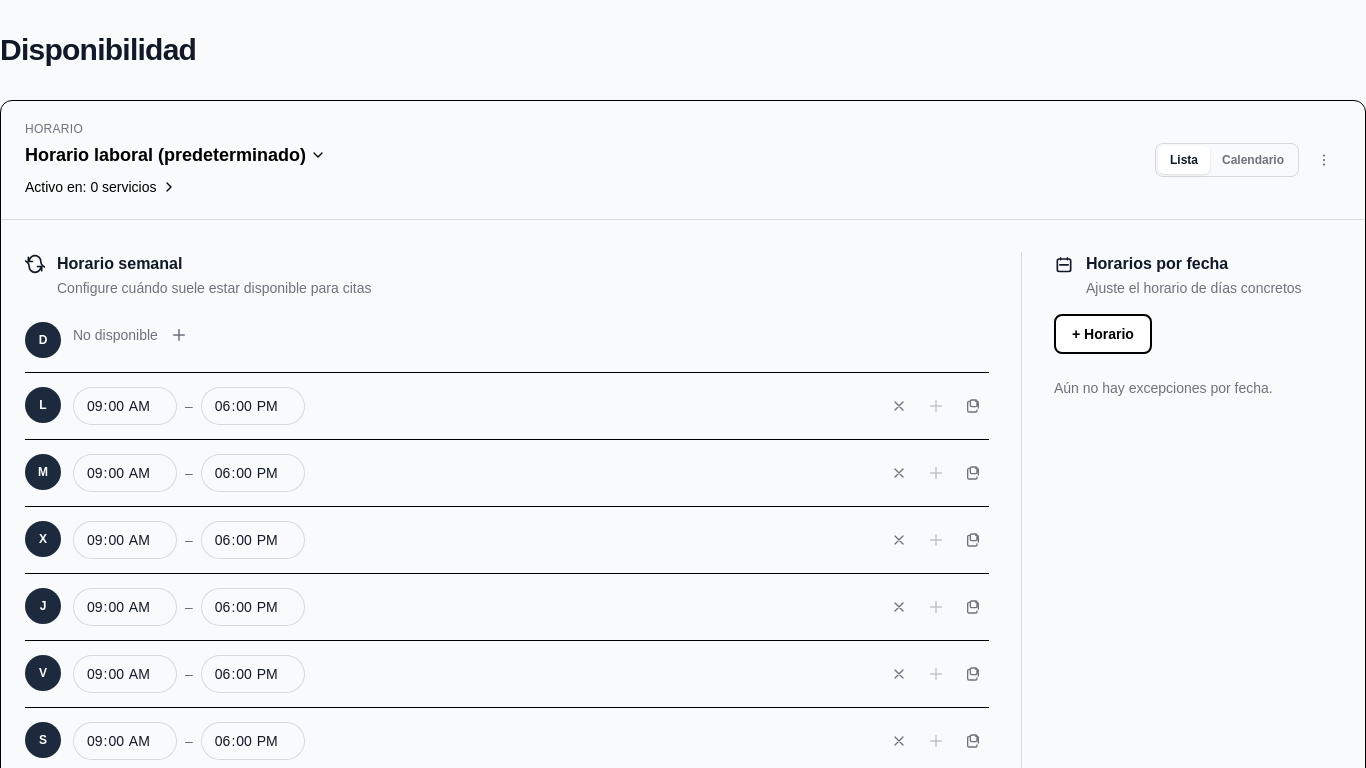
Test case: AdminAvailabilityPage › opens the add-exception modal from the toolbar control
This screenshot has width=1366, height=768.
Click the button "+ Horario" at (1103, 334), box [1054,314,1152,354]
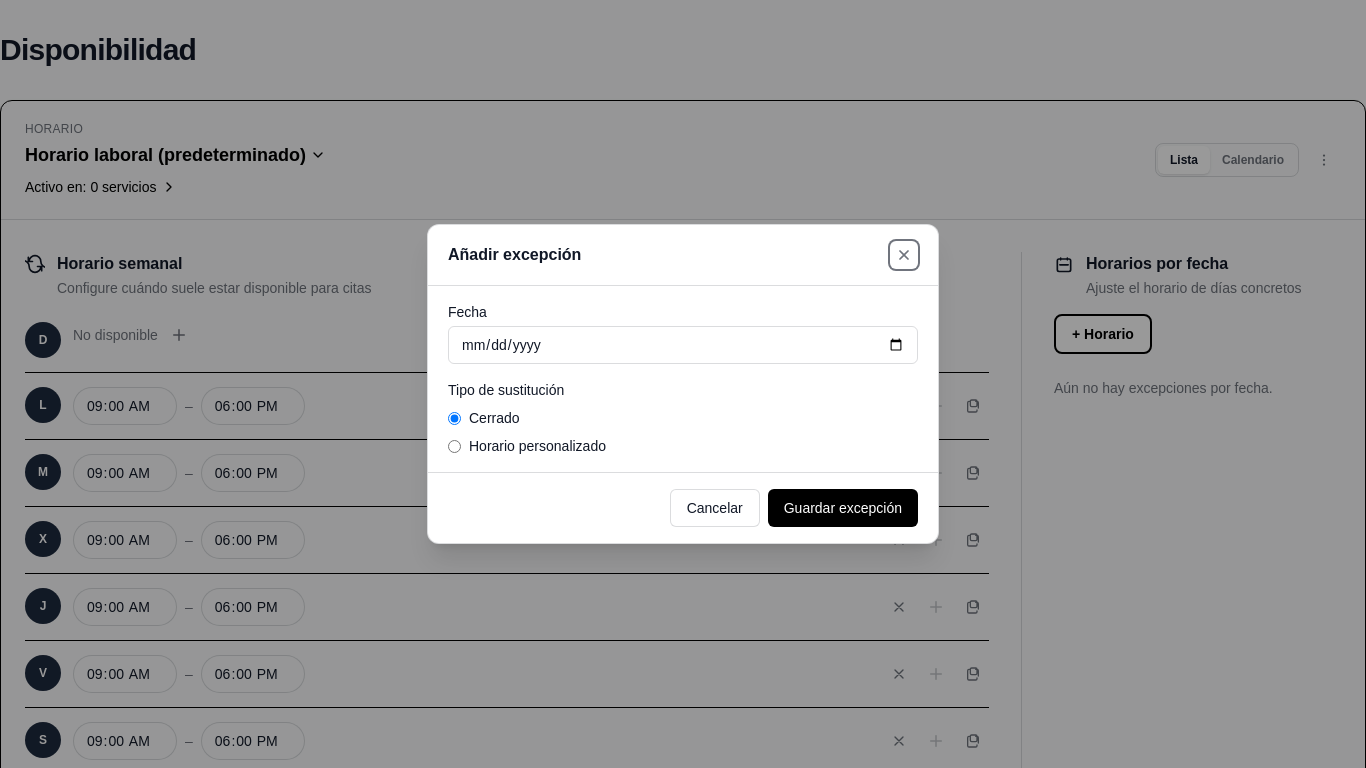
Result: the heading "Añadir excepción" is shown at [448,243,581,267]
